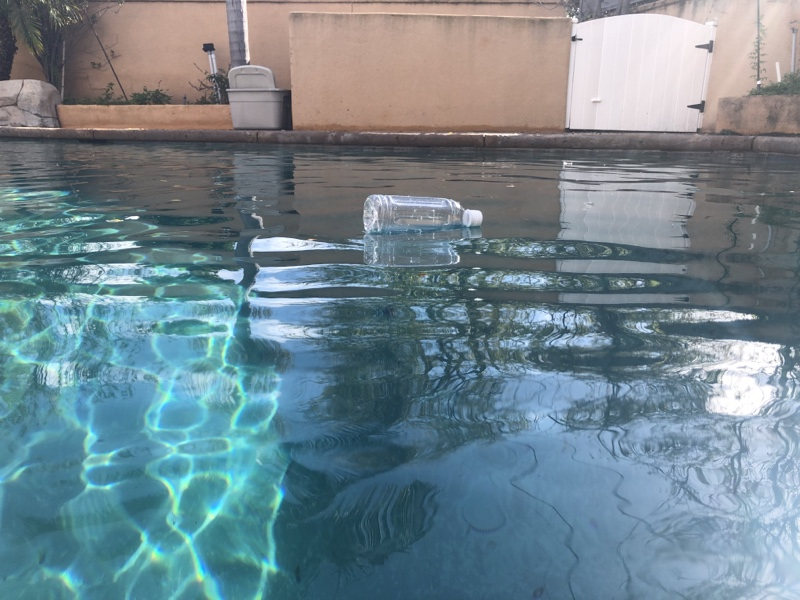Plastic Bottle: (361, 188, 486, 239)
